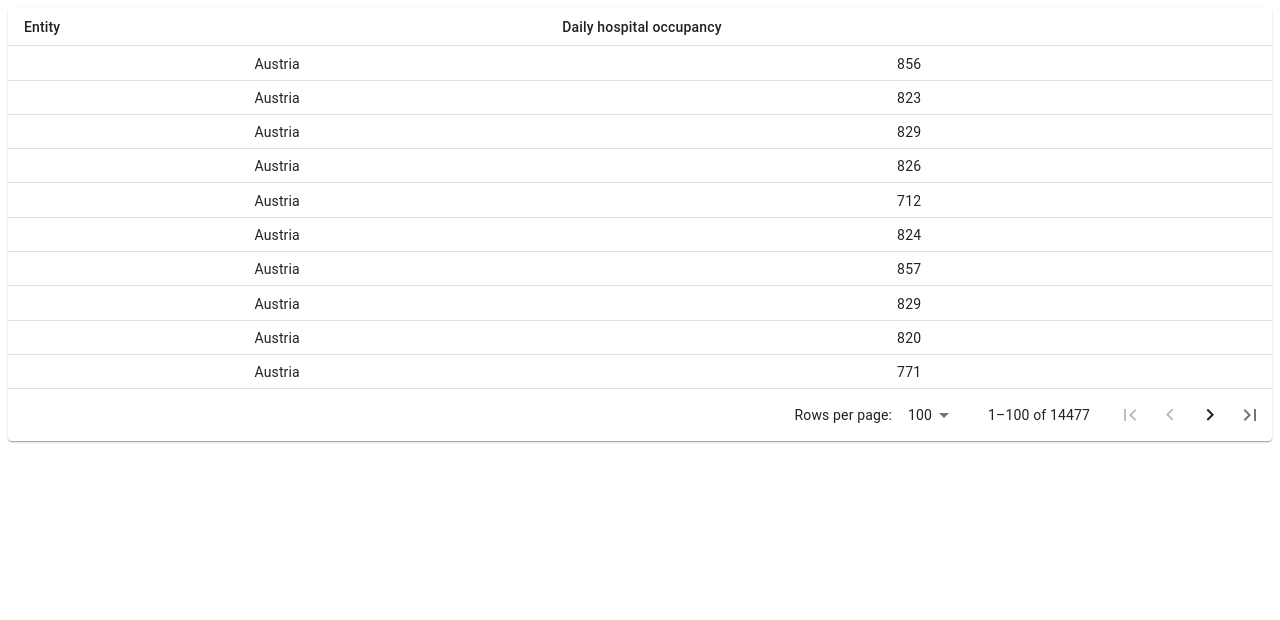
Test: PaginatedTable Component › should display row per page correctly
Press the mouse on the dropdown: (920, 415) [908,407,932,423]
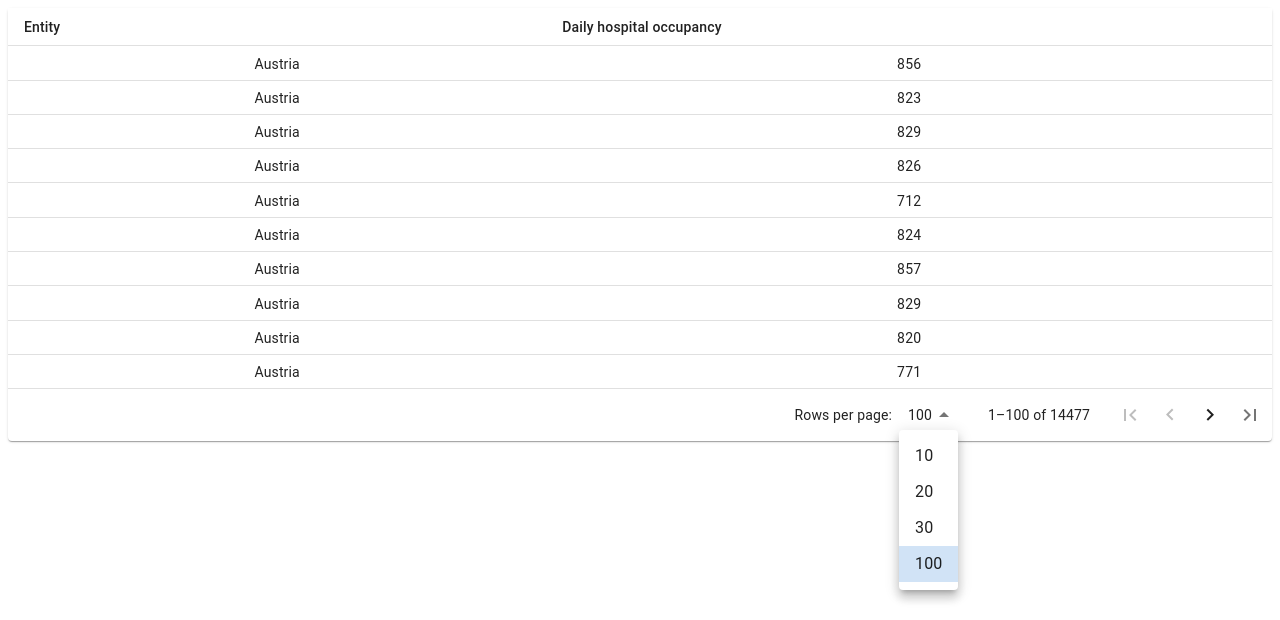
Check: the option "10" is shown, box [915,446,933,465]
